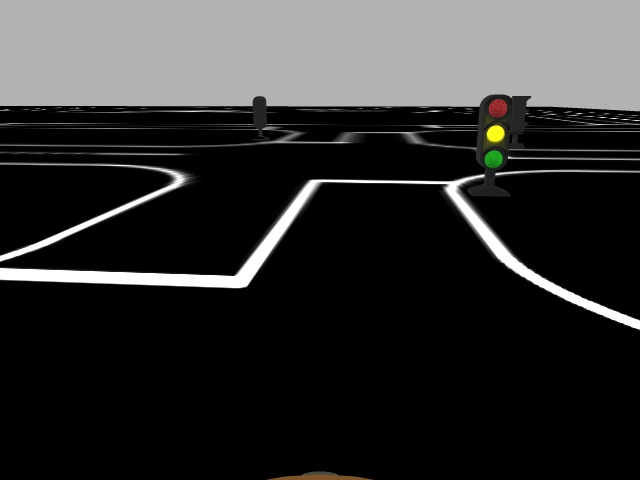yellow_light: (477, 94, 512, 172)
